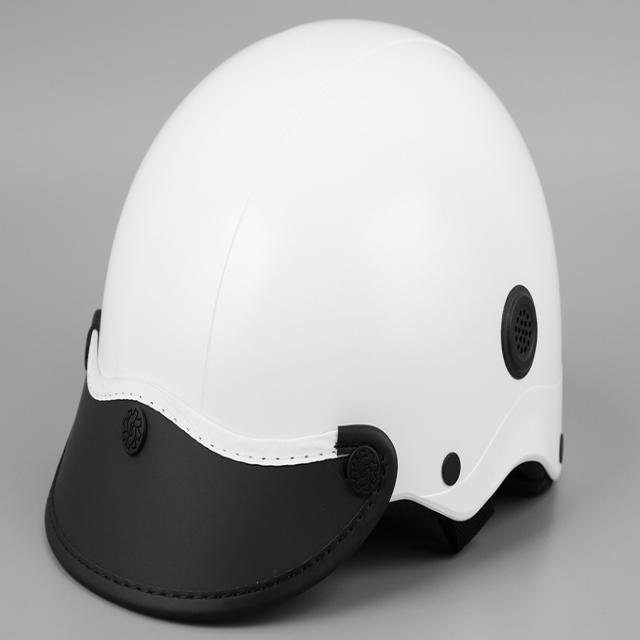Helmet: (22, 8, 582, 627)
